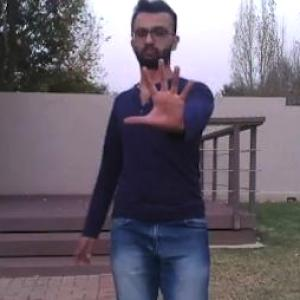follow_hand: (123, 52, 198, 136)
